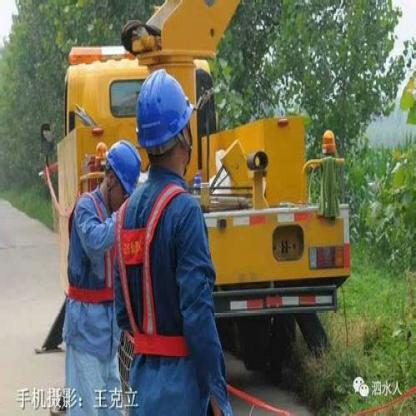helmet: (136, 63, 198, 179), (99, 136, 142, 206)
